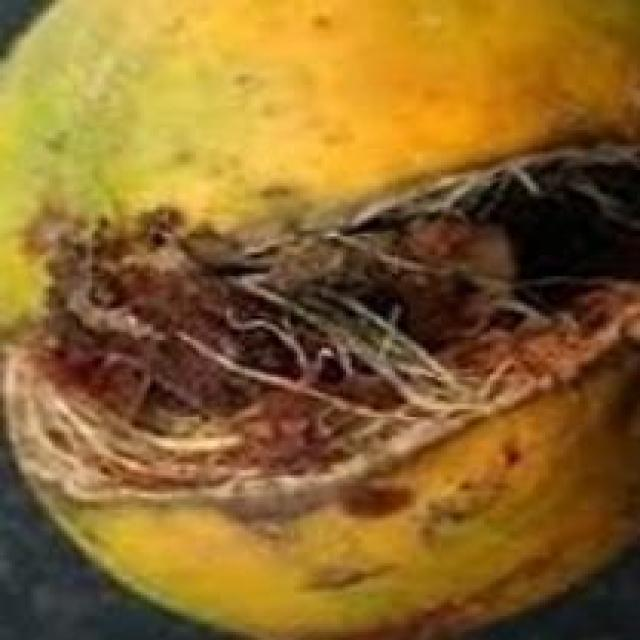damaged: (0, 0, 637, 637)
